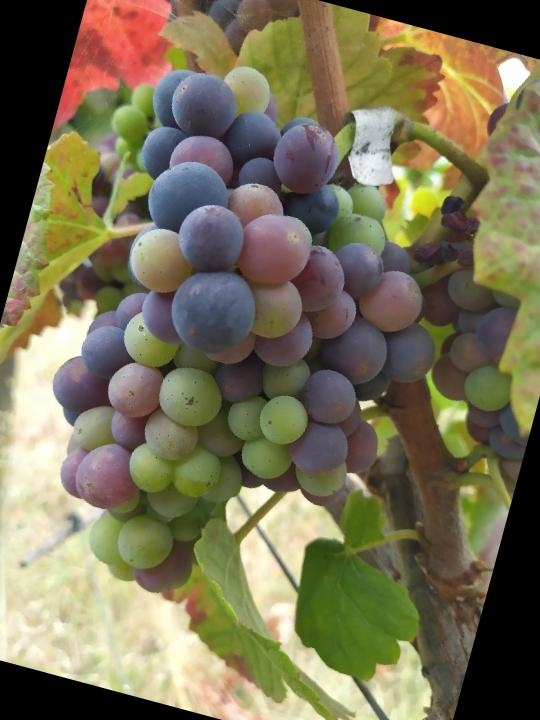grape: (3, 36, 501, 651)
